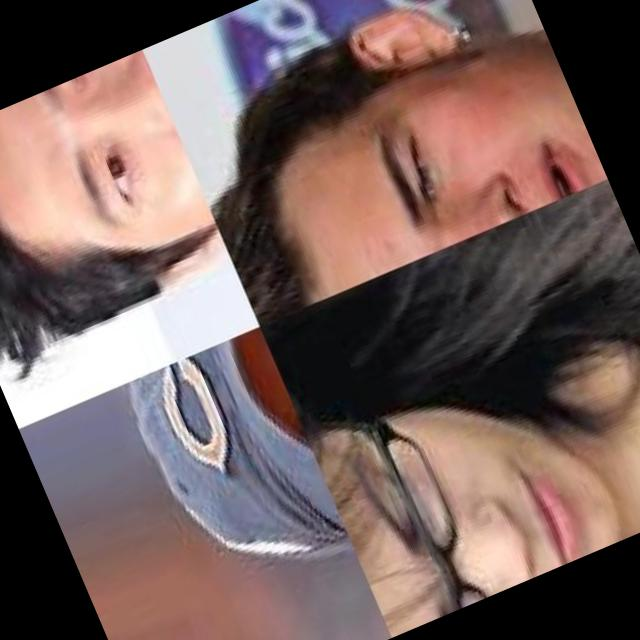bareface: (220, 0, 611, 319), (272, 340, 623, 640)
